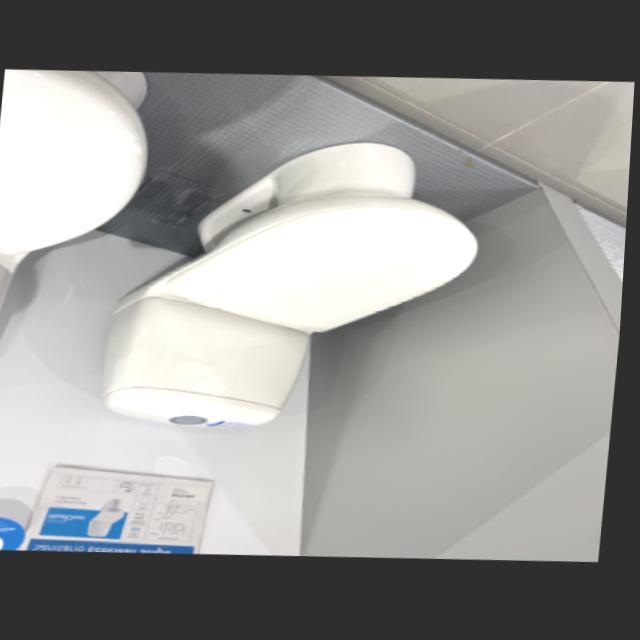toilet: (101, 133, 490, 440), (0, 67, 155, 364)
